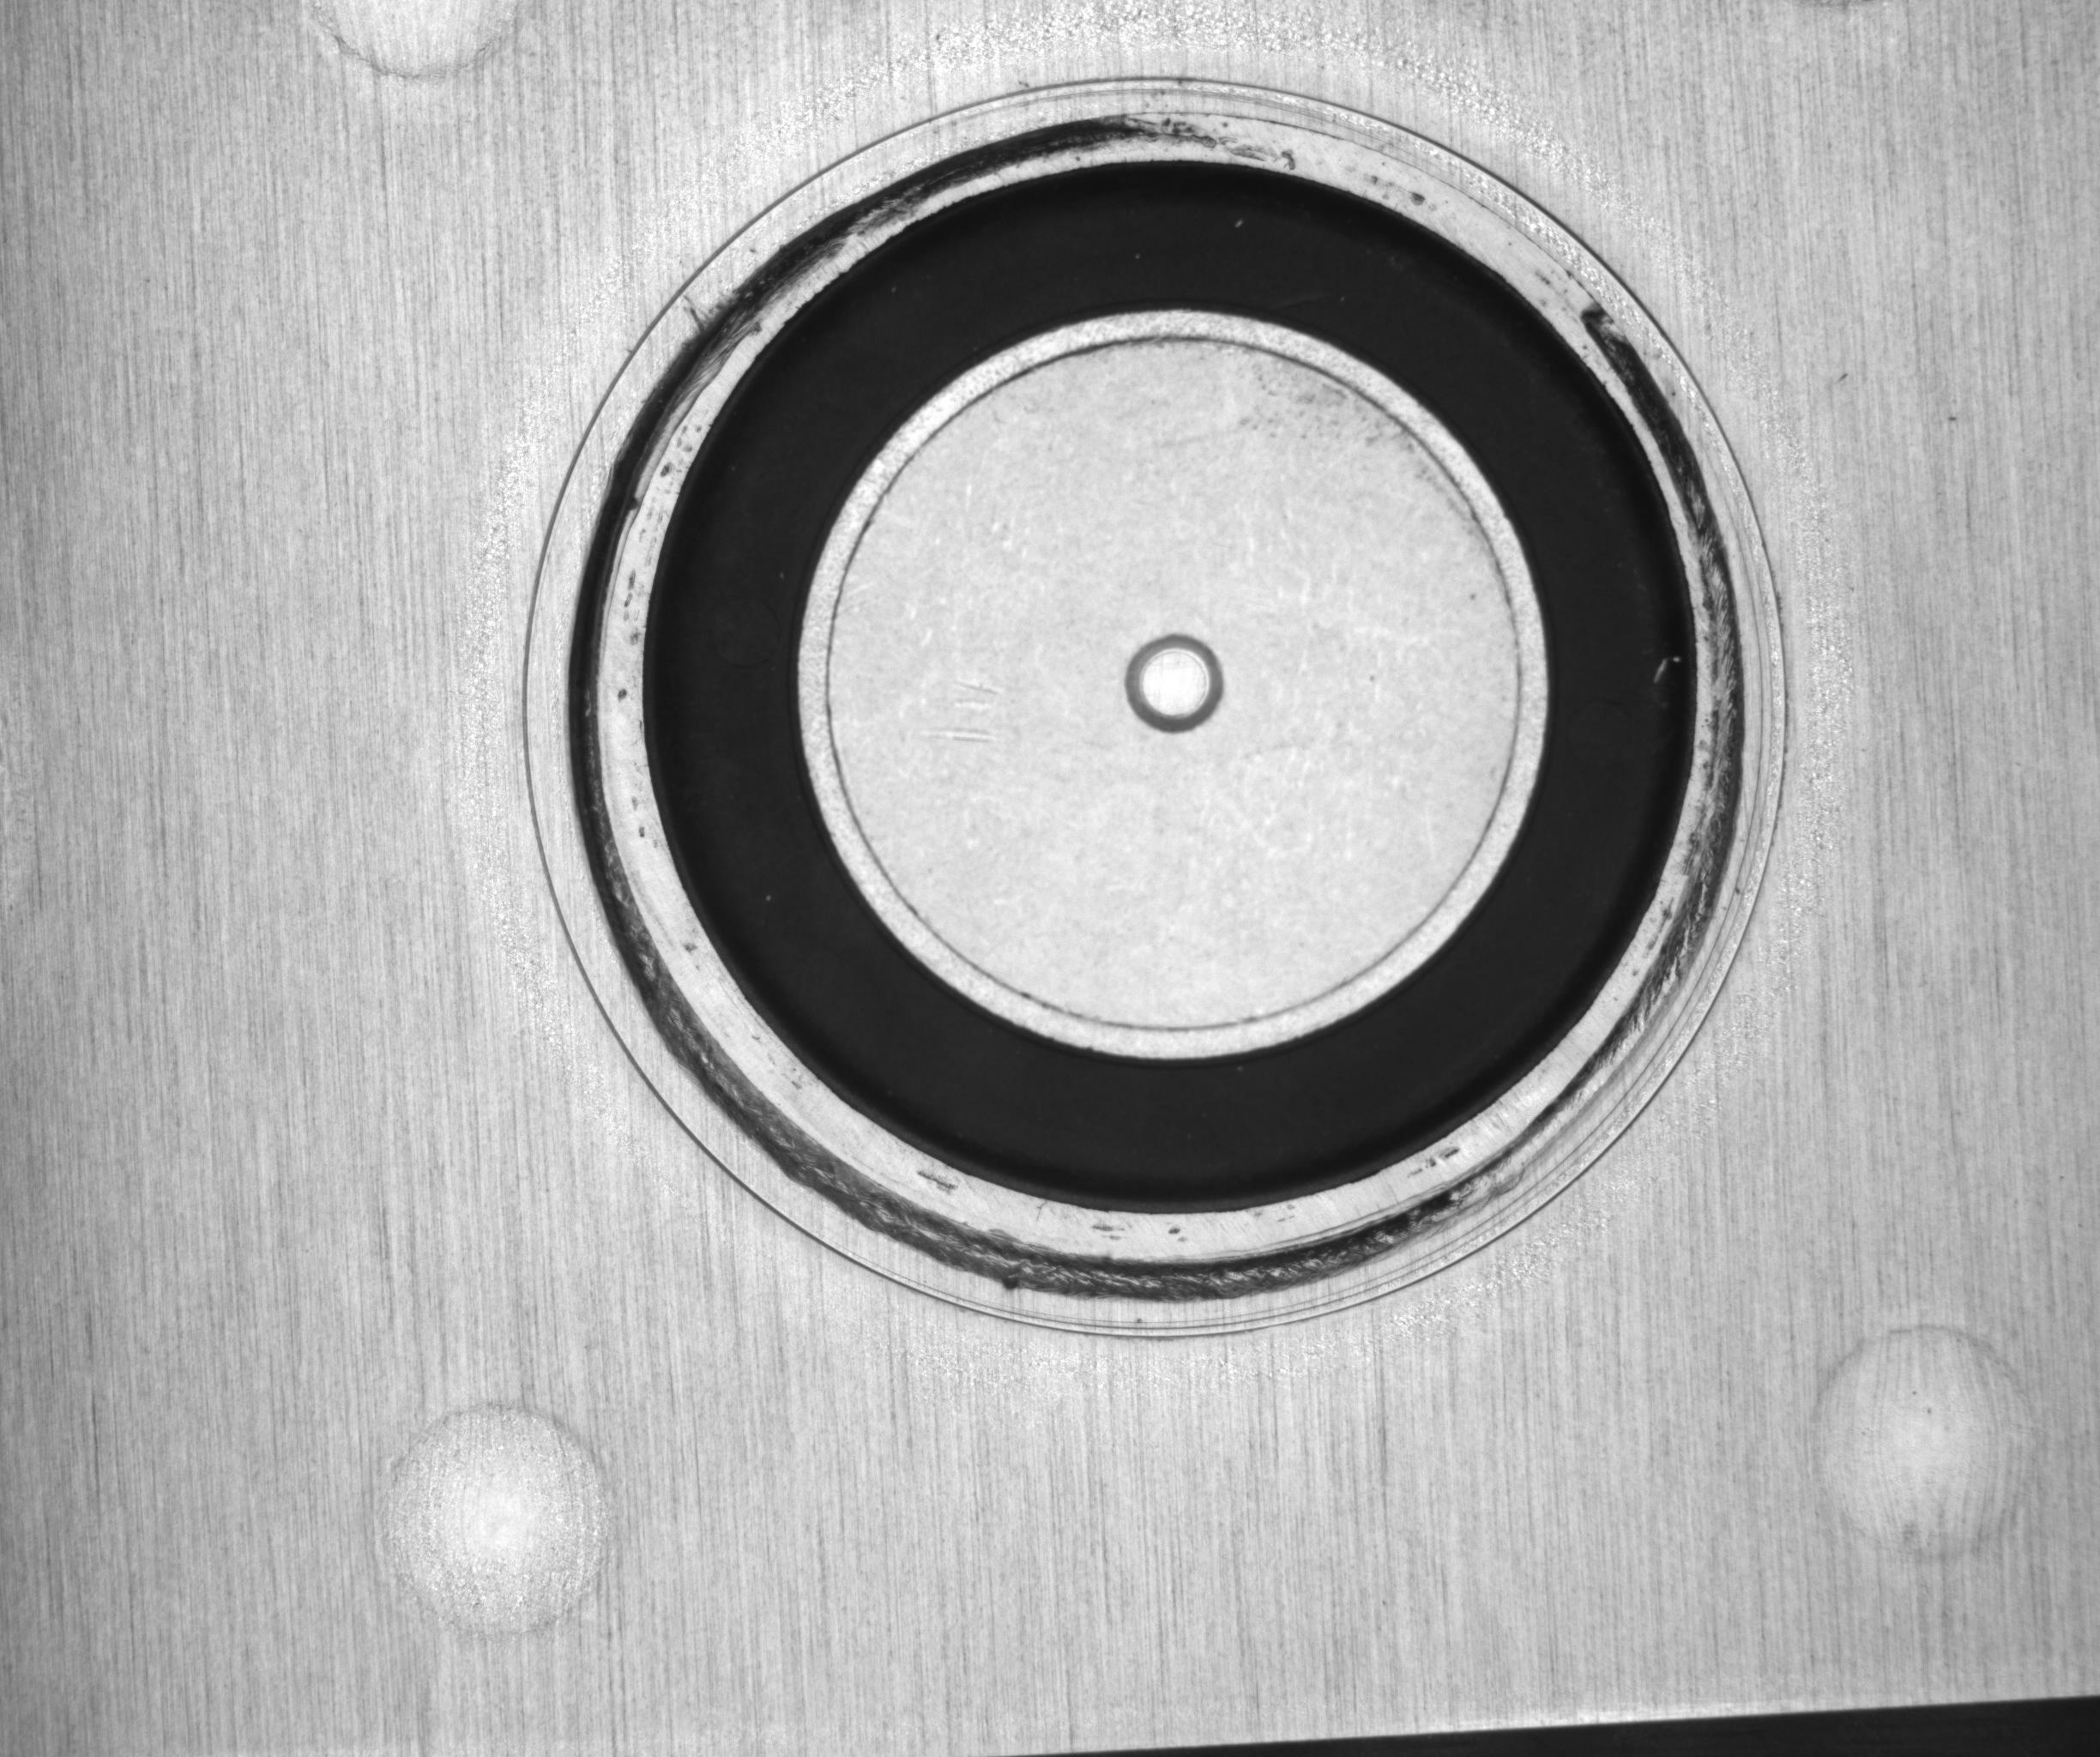shifting: (516, 66, 1800, 1345)
